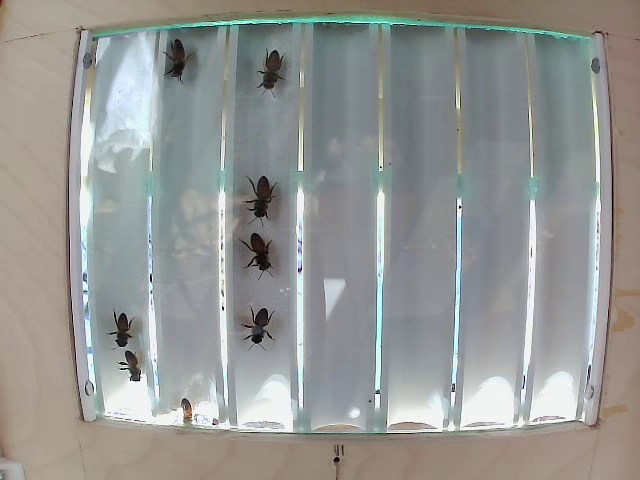bee: (149, 32, 204, 87), (243, 159, 294, 217), (233, 294, 281, 349), (257, 46, 306, 95), (237, 237, 275, 289), (95, 297, 144, 335), (112, 338, 140, 386)
